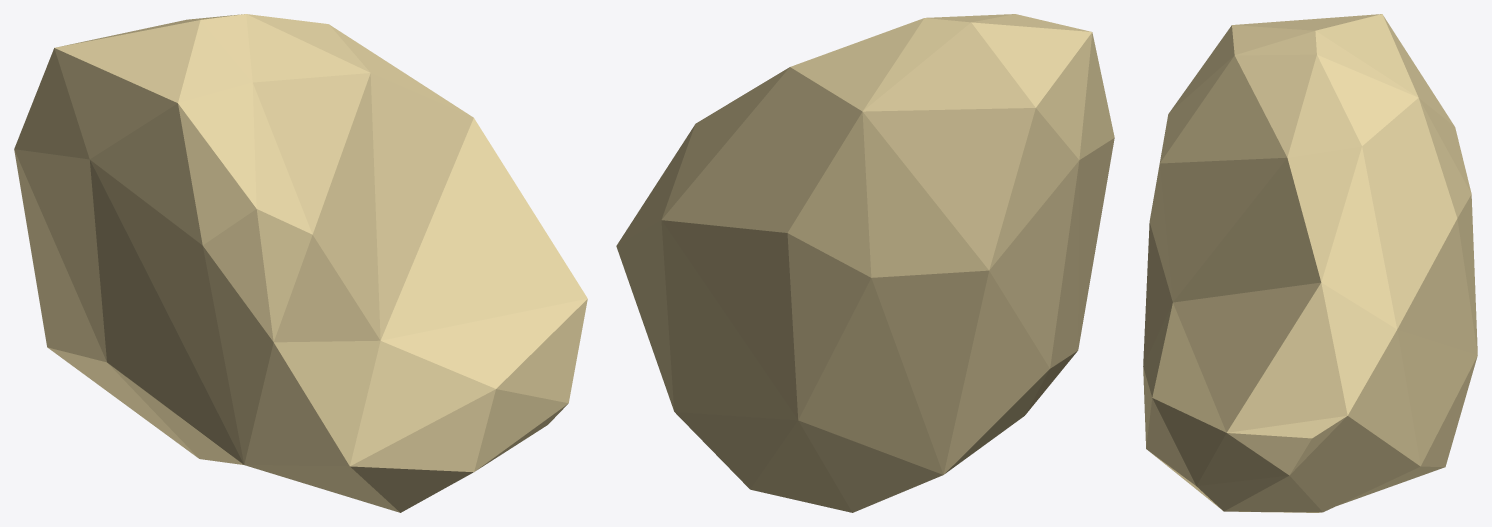
File: Rock (38).fbx
The picture shows the model from 3 angles, left to right: view 1: azimuth 30°, elevation 25°; view 2: azimuth 150°, elevation 25°; view 3: azimuth 270°, elevation 25°; orthographic projection. The views are drawn at different scales.
Visible parts, largest first — view 1: Asteroid37; view 2: Asteroid37; view 3: Asteroid37.
Part boxes in pixels (x1,y1,x2,y2): Asteroid37: (14,14,587,512); Asteroid37: (616,14,1114,512); Asteroid37: (1143,14,1477,512).
Bounding box in the file's own units: 88.69 × 88.08 × 66.99.
